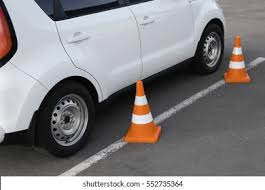car: (1, 1, 226, 157)
cone: (123, 80, 162, 146), (224, 36, 249, 84)
